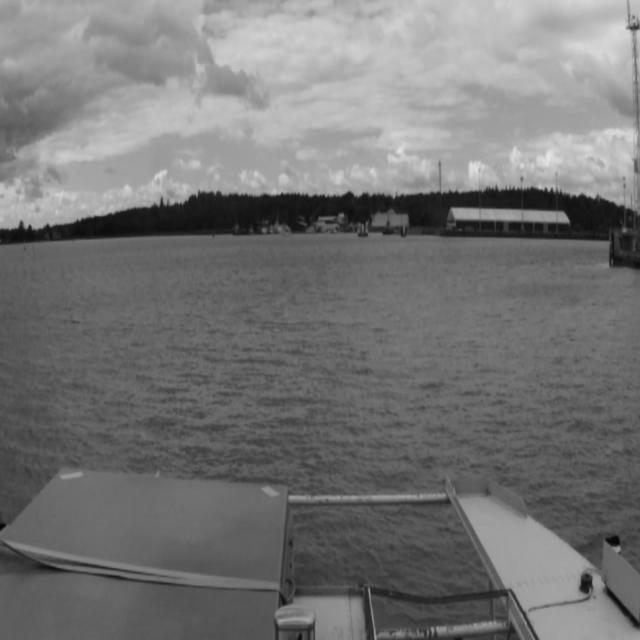ship: (272, 220, 292, 236), (380, 215, 393, 238), (259, 225, 269, 234), (268, 223, 274, 235)
